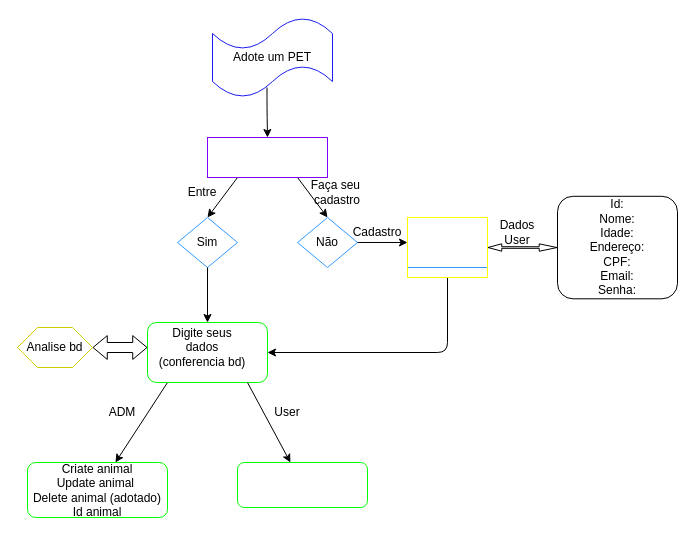
The diagram is 695 pixels wide and 536 high, and some of its shapes have lost their labels. Each missing label, with the box of its shape:
Add favoritos Pesquisar Ver mais: (236, 462, 368, 508)
Criate Update Delete ID: (406, 216, 488, 278)
Vc já é cadastrado? (True or False): (206, 136, 328, 178)
